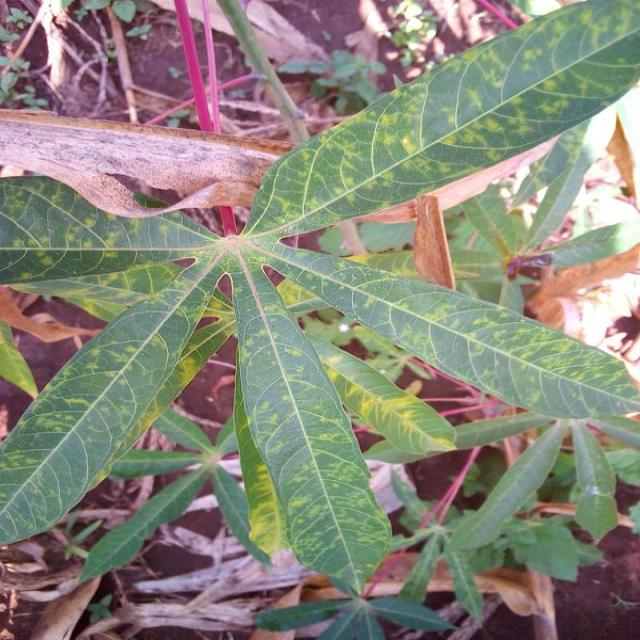cassava leaf: (2, 1, 639, 603), (241, 0, 640, 242), (1, 250, 228, 547), (232, 256, 394, 597)
